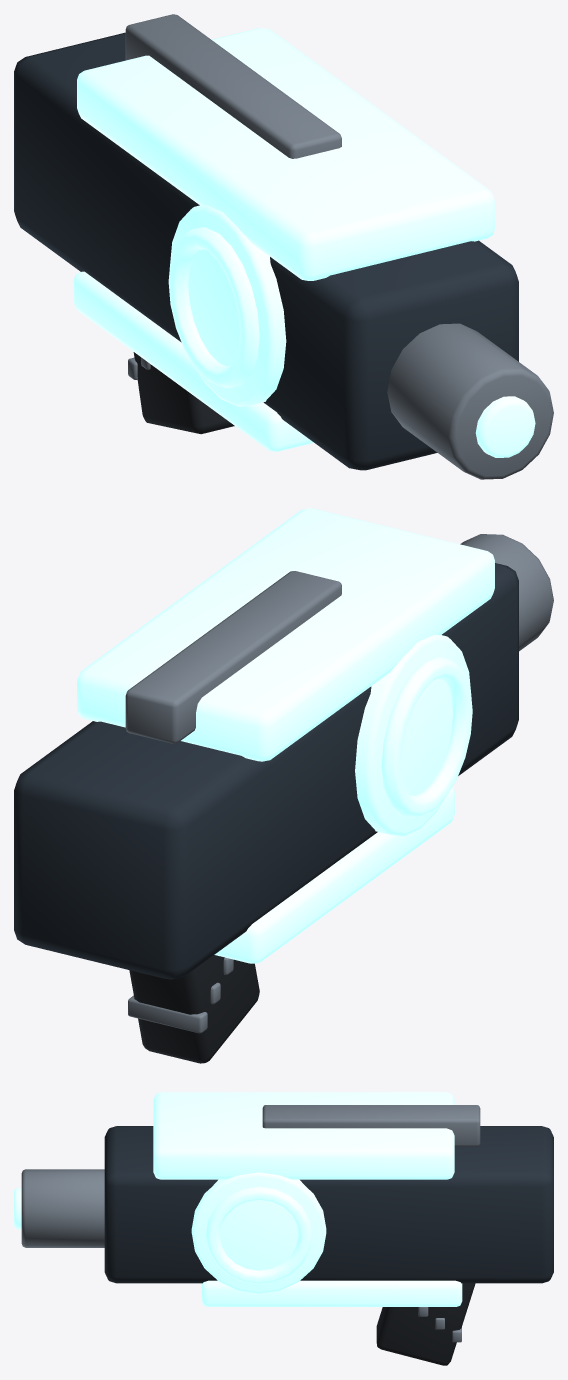
File: Pathfinder_LightSpinfusor.fbx
3 renders of one model, top to bottom at view 1: azimuth 30°, elevation 25°; view 2: azimuth 150°, elevation 25°; view 3: azimuth 270°, elevation 25°, orthographic. The views are drawn at different scales.
Parts seen in each view (by area): view 1: Receiver, UpperArmor, Muzzle, TopRail, EnergyChamber, LowerArmor, EnergyRingLeft, Grip, MuzzleGlow; view 2: Receiver, UpperArmor, TopRail, EnergyChamber, LowerArmor, Grip, EnergyRingLeft, Muzzle, GripRib_03; view 3: Receiver, UpperArmor, EnergyChamber, Muzzle, LowerArmor, TopRail, Grip, EnergyRingRight.
Boxes of the visible parts, <box> form: Receiver: <box>14,32,518,470</box>; UpperArmor: <box>77,28,494,280</box>; Muzzle: <box>387,323,553,479</box>; TopRail: <box>125,14,341,158</box>; EnergyChamber: <box>169,205,286,406</box>; LowerArmor: <box>73,271,313,451</box>; EnergyRingLeft: <box>168,227,259,388</box>; Grip: <box>133,352,234,434</box>; MuzzleGlow: <box>475,396,535,457</box>; Receiver: <box>14,563,518,979</box>; UpperArmor: <box>77,508,494,761</box>; TopRail: <box>125,571,341,743</box>; EnergyChamber: <box>355,634,471,836</box>; LowerArmor: <box>214,787,454,963</box>; Grip: <box>129,955,259,1063</box>; EnergyRingLeft: <box>381,656,472,817</box>; Muzzle: <box>460,534,553,651</box>; GripRib_03: <box>128,995,207,1033</box>; Receiver: <box>104,1126,553,1283</box>; UpperArmor: <box>153,1092,454,1179</box>; EnergyChamber: <box>191,1172,326,1293</box>; Muzzle: <box>21,1169,104,1247</box>; LowerArmor: <box>201,1280,462,1306</box>; TopRail: <box>262,1105,480,1146</box>; Grip: <box>376,1283,475,1365</box>; EnergyRingRight: <box>205,1186,312,1284</box>.
Size of the model in its own units: 122 by 193 by 385.
